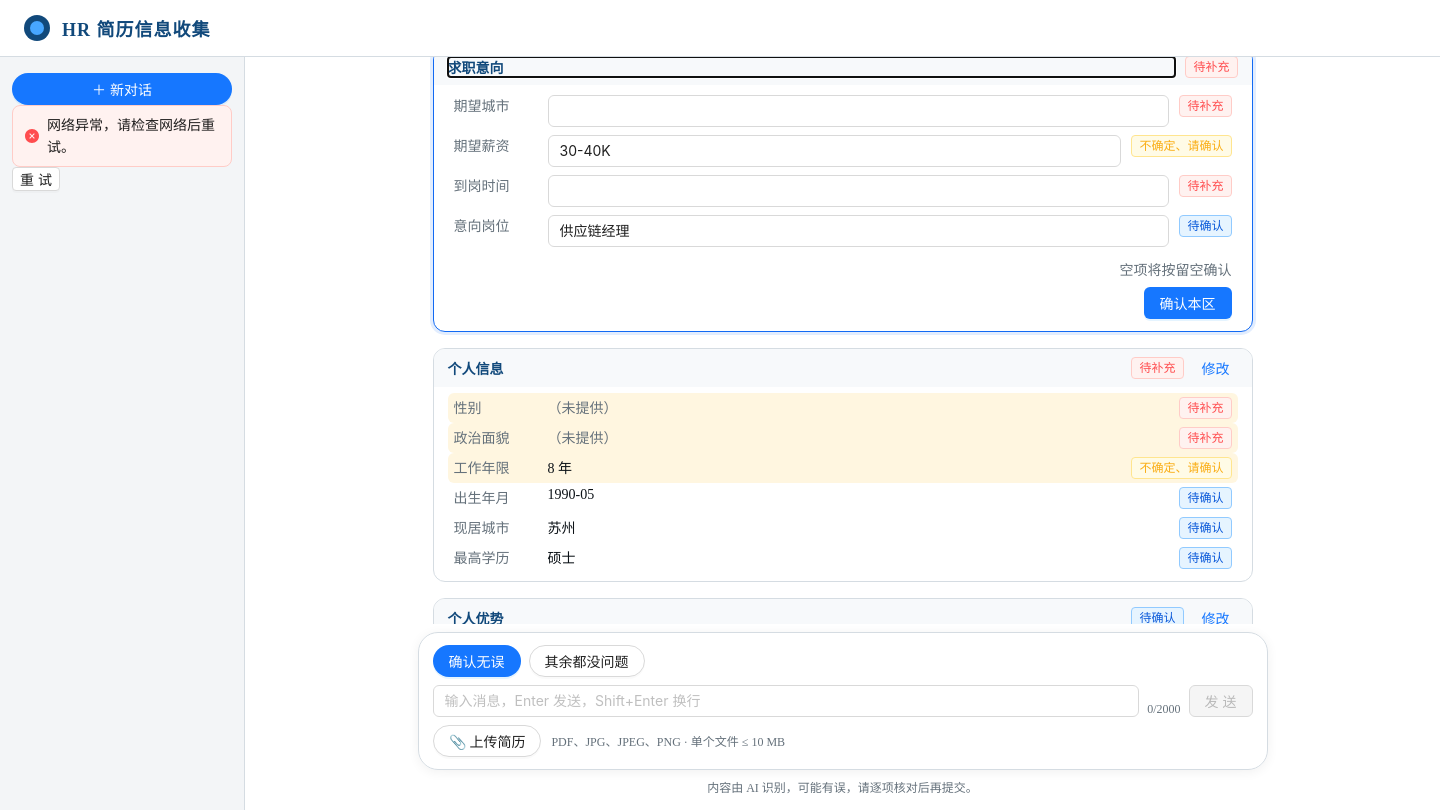
Test: recognised result display (REQ-FE-02, REQ-FE-05.2) › lets the user switch the active section with the 修改 entry and the summary chips
This screenshot has width=1440, height=810.
Earlier steps of the test are not shown.
(page scrolled)
Expected: the heading "求职意向" is shown, x1=448 y1=61 x2=504 y2=76
Click the button "修改" in the row of "个人信息" at (1216,368), box x1=1194 y1=356 x2=1238 y2=380
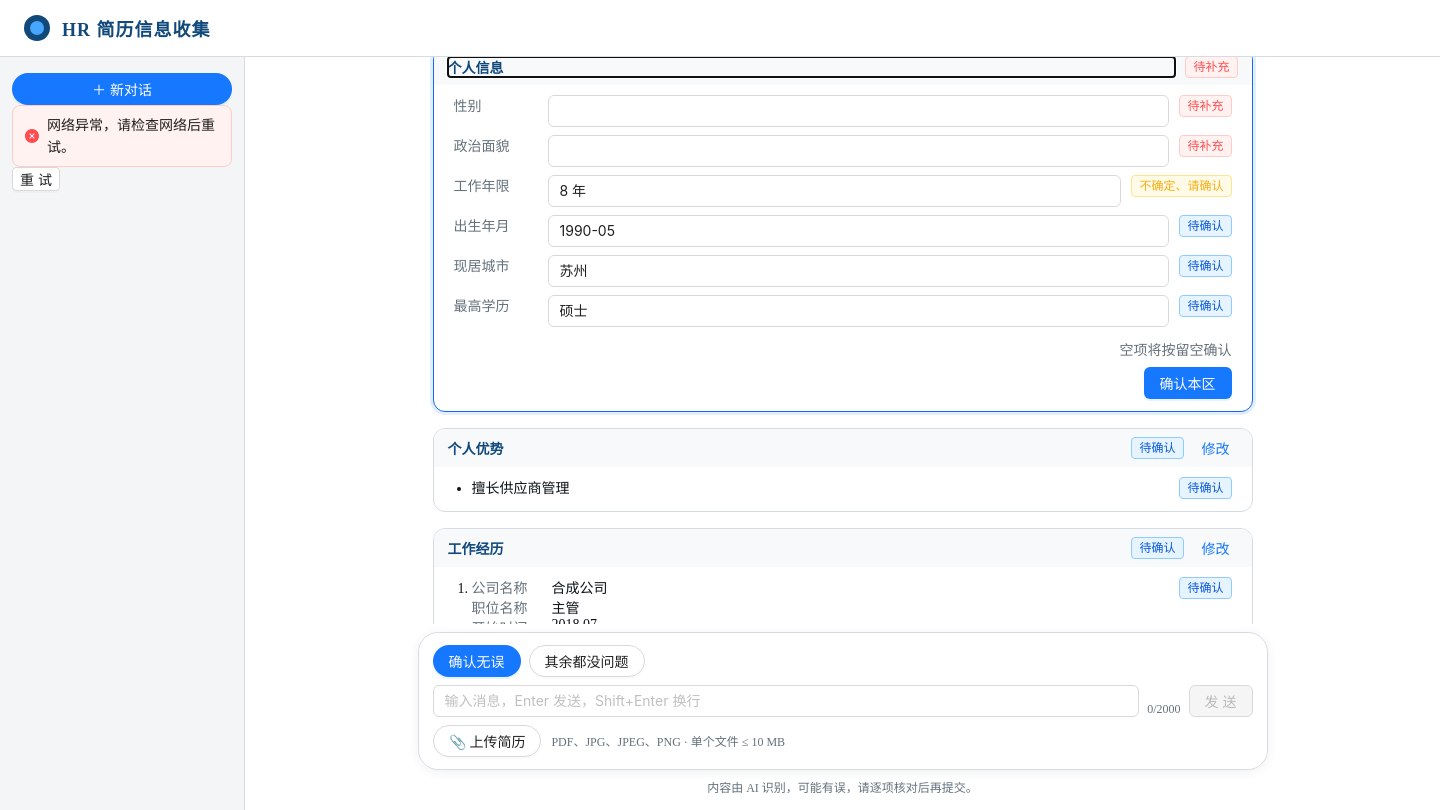
Now the element "个人信息" is marked as current, box x1=432 y1=57 x2=1252 y2=412
